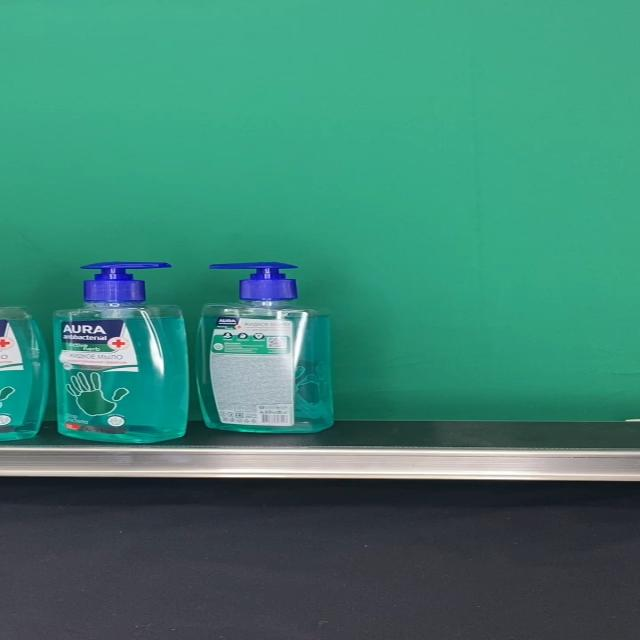Bottle: (53, 262, 189, 443), (194, 261, 333, 433)
Cap: (80, 262, 172, 302), (208, 262, 300, 302)
